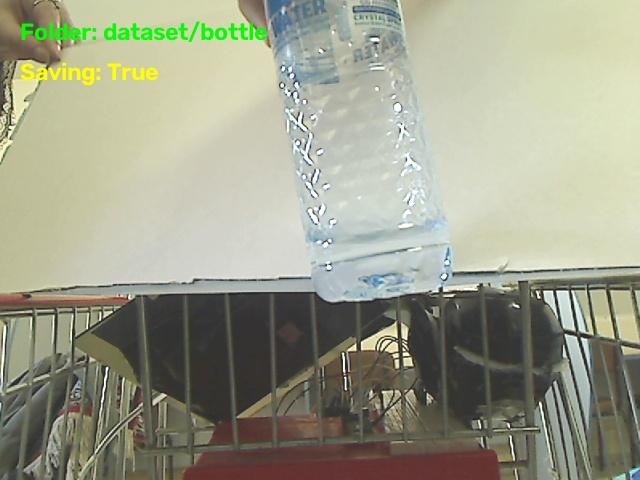Bottle: (265, 0, 451, 301)
